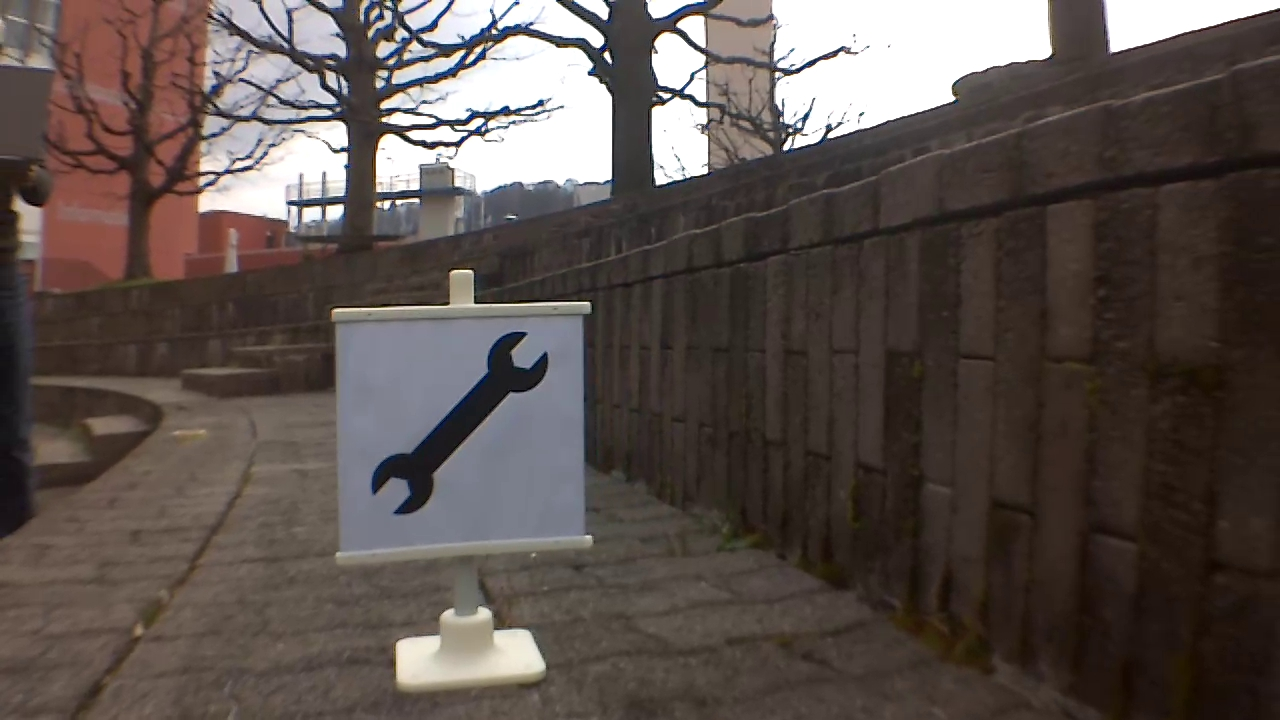wrench: (368, 329, 552, 520)
